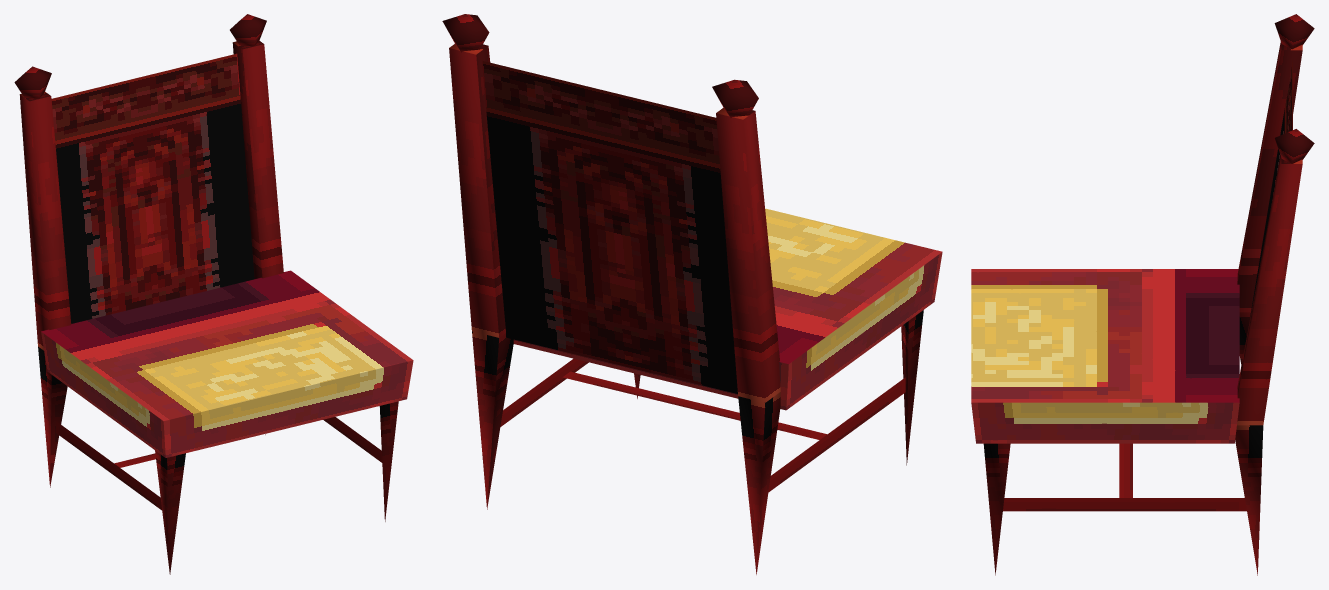
The picture shows the model from 3 angles, left to right: view 1: azimuth 30°, elevation 25°; view 2: azimuth 150°, elevation 25°; view 3: azimuth 270°, elevation 25°; orthographic projection. The views are drawn at different scales.
Parts seen in each view (by area): view 1: 3043IMRL02_04; view 2: 3043IMRL02_04; view 3: 3043IMRL02_04.
Part boxes in pixels (x1,y1,x2,y2): 3043IMRL02_04: (14,14,413,574); 3043IMRL02_04: (442,14,942,574); 3043IMRL02_04: (971,14,1314,575).
Size of the model in its own units: 0.8618 by 1.33 by 0.9275.
3 materials, 3 textured.
